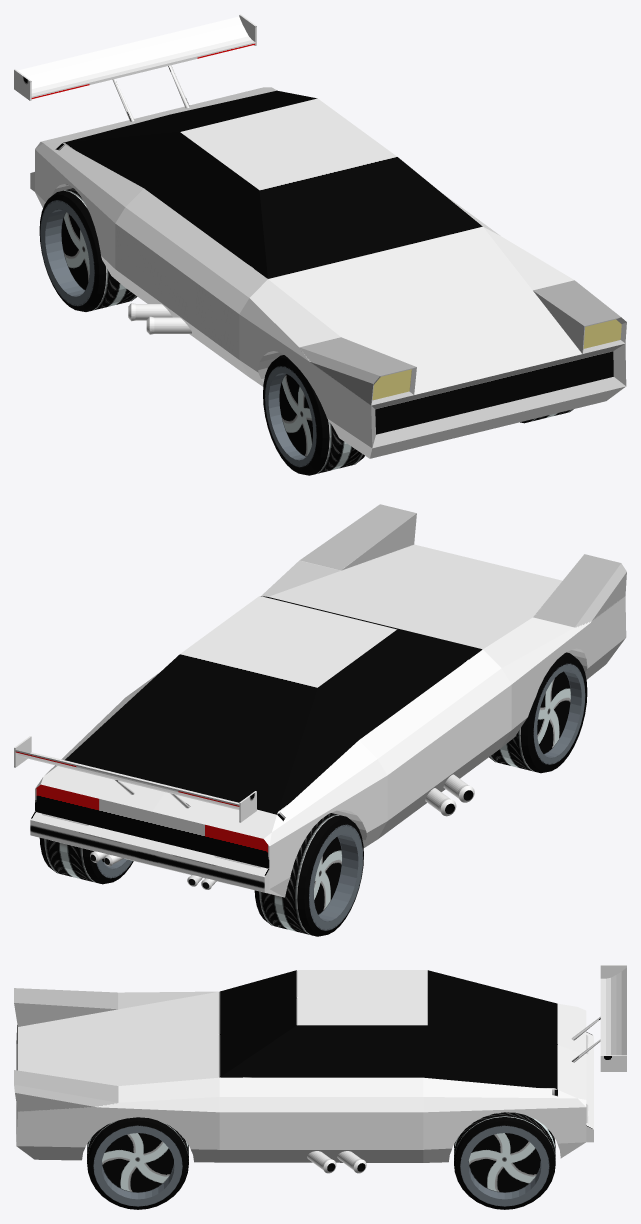
File: sideBoosterCar.fbx
3 renders of one model, top to bottom at view 1: azimuth 30°, elevation 25°; view 2: azimuth 150°, elevation 25°; view 3: azimuth 270°, elevation 25°, orthographic. The views are drawn at different scales.
Parts seen in each view (by area): view 1: SideBooster, Tire.009, Tire.011; view 2: SideBooster, Tire.009, Tire.011, Tire.008; view 3: SideBooster, Tire.008, Tire.010.
Boxes of the visible parts, x1,y1,x2,y2 form: SideBooster: [14, 14, 626, 458]; Tire.009: [39, 188, 137, 311]; Tire.011: [263, 355, 364, 475]; SideBooster: [14, 504, 626, 897]; Tire.009: [254, 813, 363, 936]; Tire.011: [489, 652, 587, 773]; Tire.008: [39, 838, 133, 884]; SideBooster: [14, 965, 626, 1173]; Tire.008: [454, 1112, 555, 1209]; Tire.010: [87, 1117, 188, 1209].
Size of the model in its own units: 152 by 87.09 by 301.
Materials: 2 (2 with a texture image).
